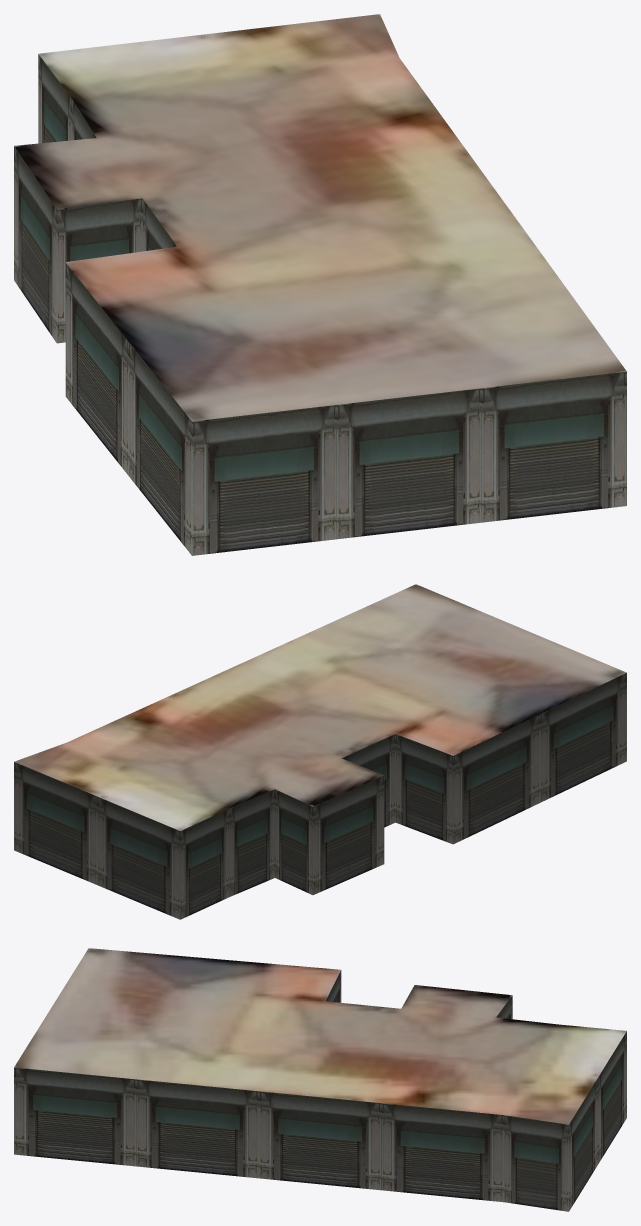
3 renders of one model, top to bottom at view 1: azimuth 30°, elevation 25°; view 2: azimuth 150°, elevation 25°; view 3: azimuth 270°, elevation 25°, orthographic. The views are drawn at different scales.
Parts seen in each view (by area): view 1: SketchUp (×7); view 2: SketchUp (×9); view 3: SketchUp (×4).
Boxes of the visible parts, left/top/right/bottom form: SketchUp (×7): left=14, top=14, right=626, bottom=555; SketchUp (×9): left=14, top=584, right=626, bottom=919; SketchUp (×4): left=14, top=948, right=626, bottom=1211.
Bounding box in the file's own units: 18.35 × 26.92 × 4.22.
Materials: 2 (2 with a texture image).
